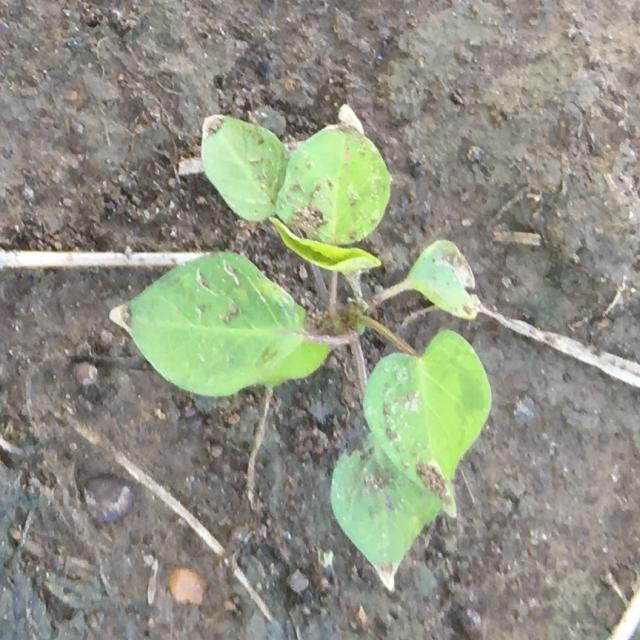MorningGlory: (121, 115, 492, 578)
